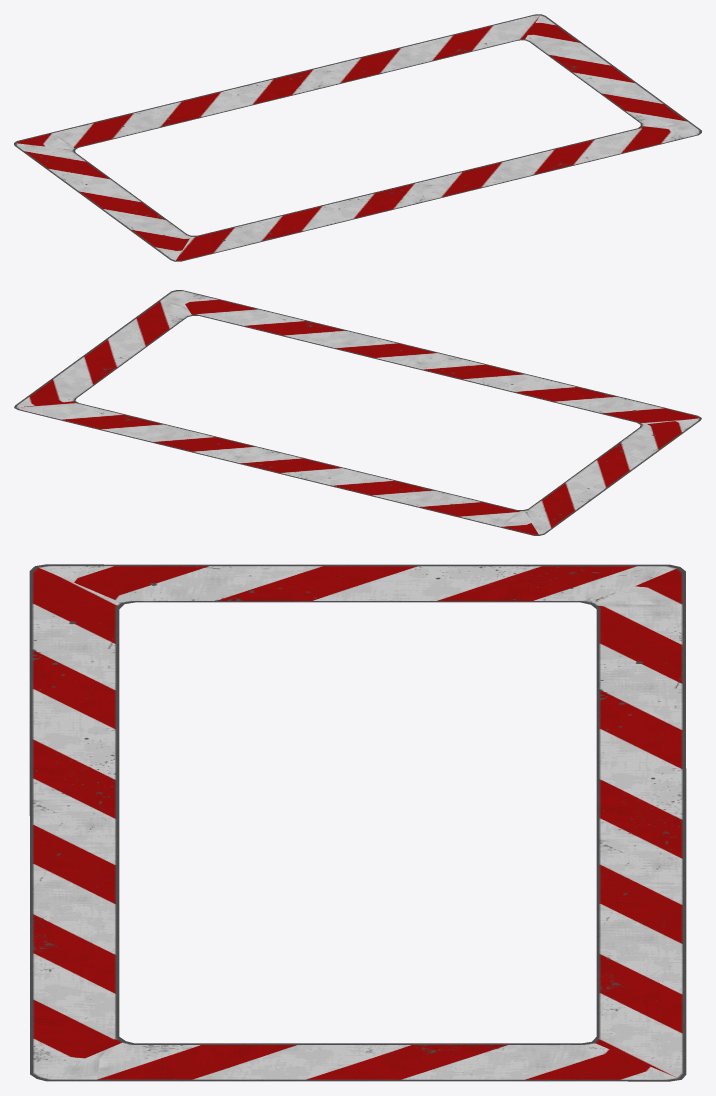
The model's file is SM_FloorDecal_RecRed1X2.FBX.
The picture shows the model from 3 angles, top to bottom: view 1: azimuth 30°, elevation 25°; view 2: azimuth 150°, elevation 25°; view 3: azimuth 270°, elevation 25°; orthographic projection. The views are drawn at different scales.
Parts seen in each view (by area): view 1: SM_FloorDecal_RecRed1X2; view 2: SM_FloorDecal_RecRed1X2; view 3: SM_FloorDecal_RecRed1X2.
Boxes of the visible parts, <box> form: SM_FloorDecal_RecRed1X2: <box>14,14,701,261</box>; SM_FloorDecal_RecRed1X2: <box>14,290,701,535</box>; SM_FloorDecal_RecRed1X2: <box>29,564,686,1081</box>.
Size of the model in its own units: 216 by 116 by 0.
